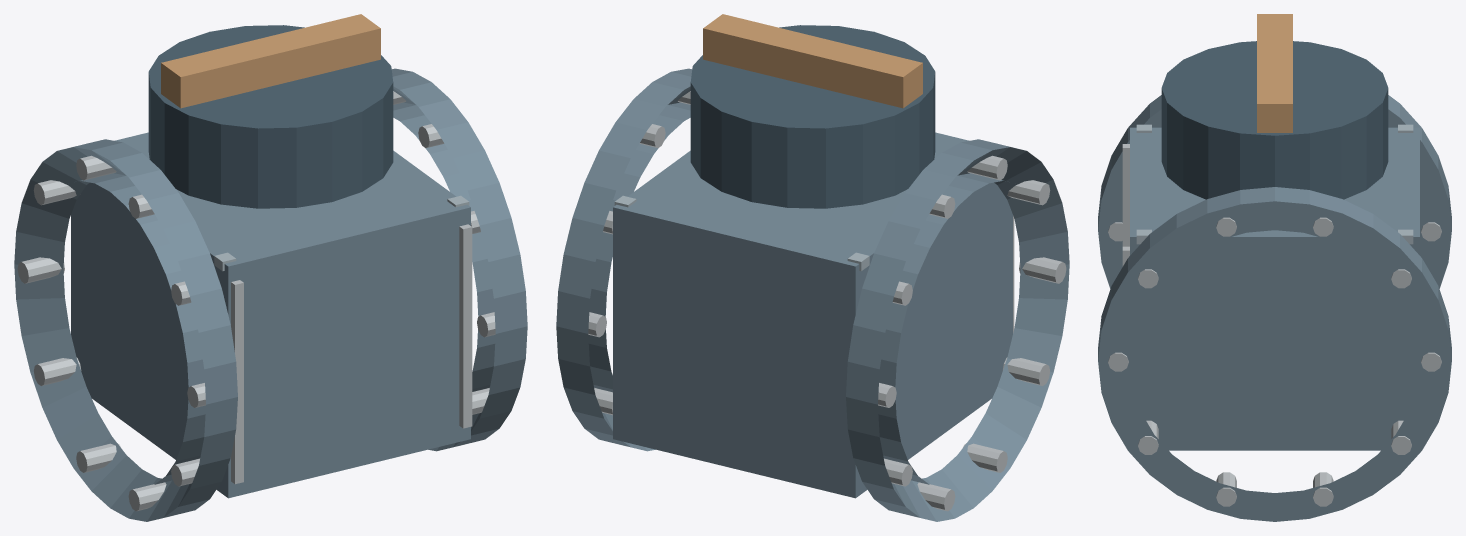
File: 34_L75_AutomaticVacuumThrottleValve.glb
3 views of the same model, side by side, from view 1: azimuth 30°, elevation 25°; view 2: azimuth 150°, elevation 25°; view 3: azimuth 270°, elevation 25° (orthographic). The views are drawn at different scales.
Parts seen in each view (by area): view 1: AutomaticVacuumThrottleValve_Node_0022, AutomaticVacuumThrottleValve_Node_0000, AutomaticVacuumThrottleValve_Node_0029, AutomaticVacuumThrottleValve_Node_0011, AutomaticVacuumThrottleValve_Node_0030, AutomaticVacuumThrottleValve_Node_0028, AutomaticVacuumThrottleValve_Node_0027, AutomaticVacuumThrottleValve_Node_0007, AutomaticVacuumThrottleValve_Node_0006, AutomaticVacuumThrottleValve_Node_0008, AutomaticVacuumThrottleValve_Node_0005, AutomaticVacuumThrottleValve_Node_0009 (+1 smaller); view 2: AutomaticVacuumThrottleValve_Node_0022, AutomaticVacuumThrottleValve_Node_0000, AutomaticVacuumThrottleValve_Node_0029, AutomaticVacuumThrottleValve_Node_0011, AutomaticVacuumThrottleValve_Node_0030, AutomaticVacuumThrottleValve_Node_0010, AutomaticVacuumThrottleValve_Node_0001, AutomaticVacuumThrottleValve_Node_0009, AutomaticVacuumThrottleValve_Node_0002, AutomaticVacuumThrottleValve_Node_0008, AutomaticVacuumThrottleValve_Node_0003; view 3: AutomaticVacuumThrottleValve_Node_0022, AutomaticVacuumThrottleValve_Node_0011, AutomaticVacuumThrottleValve_Node_0029, AutomaticVacuumThrottleValve_Node_0000, AutomaticVacuumThrottleValve_Node_0030, AutomaticVacuumThrottleValve_Node_0027, AutomaticVacuumThrottleValve_Node_0019, AutomaticVacuumThrottleValve_Node_0020, AutomaticVacuumThrottleValve_Node_0018, AutomaticVacuumThrottleValve_Node_0021.
Boxes of the visible parts, x1,y1,x2,y2 form: AutomaticVacuumThrottleValve_Node_0022: (71,132,470,498); AutomaticVacuumThrottleValve_Node_0000: (14,139,237,521); AutomaticVacuumThrottleValve_Node_0029: (148,25,393,208); AutomaticVacuumThrottleValve_Node_0011: (391,68,527,451); AutomaticVacuumThrottleValve_Node_0030: (161,14,380,108); AutomaticVacuumThrottleValve_Node_0028: (459,224,472,428); AutomaticVacuumThrottleValve_Node_0027: (231,280,243,484); AutomaticVacuumThrottleValve_Node_0007: (34,357,81,385); AutomaticVacuumThrottleValve_Node_0006: (17,257,64,283); AutomaticVacuumThrottleValve_Node_0008: (76,443,120,472); AutomaticVacuumThrottleValve_Node_0005: (33,180,76,205); AutomaticVacuumThrottleValve_Node_0009: (128,482,166,511); AutomaticVacuumThrottleValve_Node_0022: (613,132,1012,498); AutomaticVacuumThrottleValve_Node_0000: (846,139,1069,521); AutomaticVacuumThrottleValve_Node_0029: (690,25,935,208); AutomaticVacuumThrottleValve_Node_0011: (556,68,692,451); AutomaticVacuumThrottleValve_Node_0030: (703,14,922,108); AutomaticVacuumThrottleValve_Node_0010: (1002,357,1049,385); AutomaticVacuumThrottleValve_Node_0001: (1019,257,1066,283); AutomaticVacuumThrottleValve_Node_0009: (963,443,1007,472); AutomaticVacuumThrottleValve_Node_0002: (1007,180,1050,205); AutomaticVacuumThrottleValve_Node_0008: (917,482,955,511); AutomaticVacuumThrottleValve_Node_0003: (967,155,1007,180); AutomaticVacuumThrottleValve_Node_0022: (1130,127,1419,450); AutomaticVacuumThrottleValve_Node_0011: (1098,187,1451,521); AutomaticVacuumThrottleValve_Node_0029: (1161,41,1388,199); AutomaticVacuumThrottleValve_Node_0000: (1098,95,1451,288); AutomaticVacuumThrottleValve_Node_0030: (1257,14,1292,132); AutomaticVacuumThrottleValve_Node_0027: (1122,144,1129,246); AutomaticVacuumThrottleValve_Node_0019: (1313,472,1333,506); AutomaticVacuumThrottleValve_Node_0020: (1216,472,1236,506); AutomaticVacuumThrottleValve_Node_0018: (1391,420,1411,454); AutomaticVacuumThrottleValve_Node_0021: (1138,420,1158,454).
Size of the model in its own units: 0.765 by 0.95 by 0.78.
